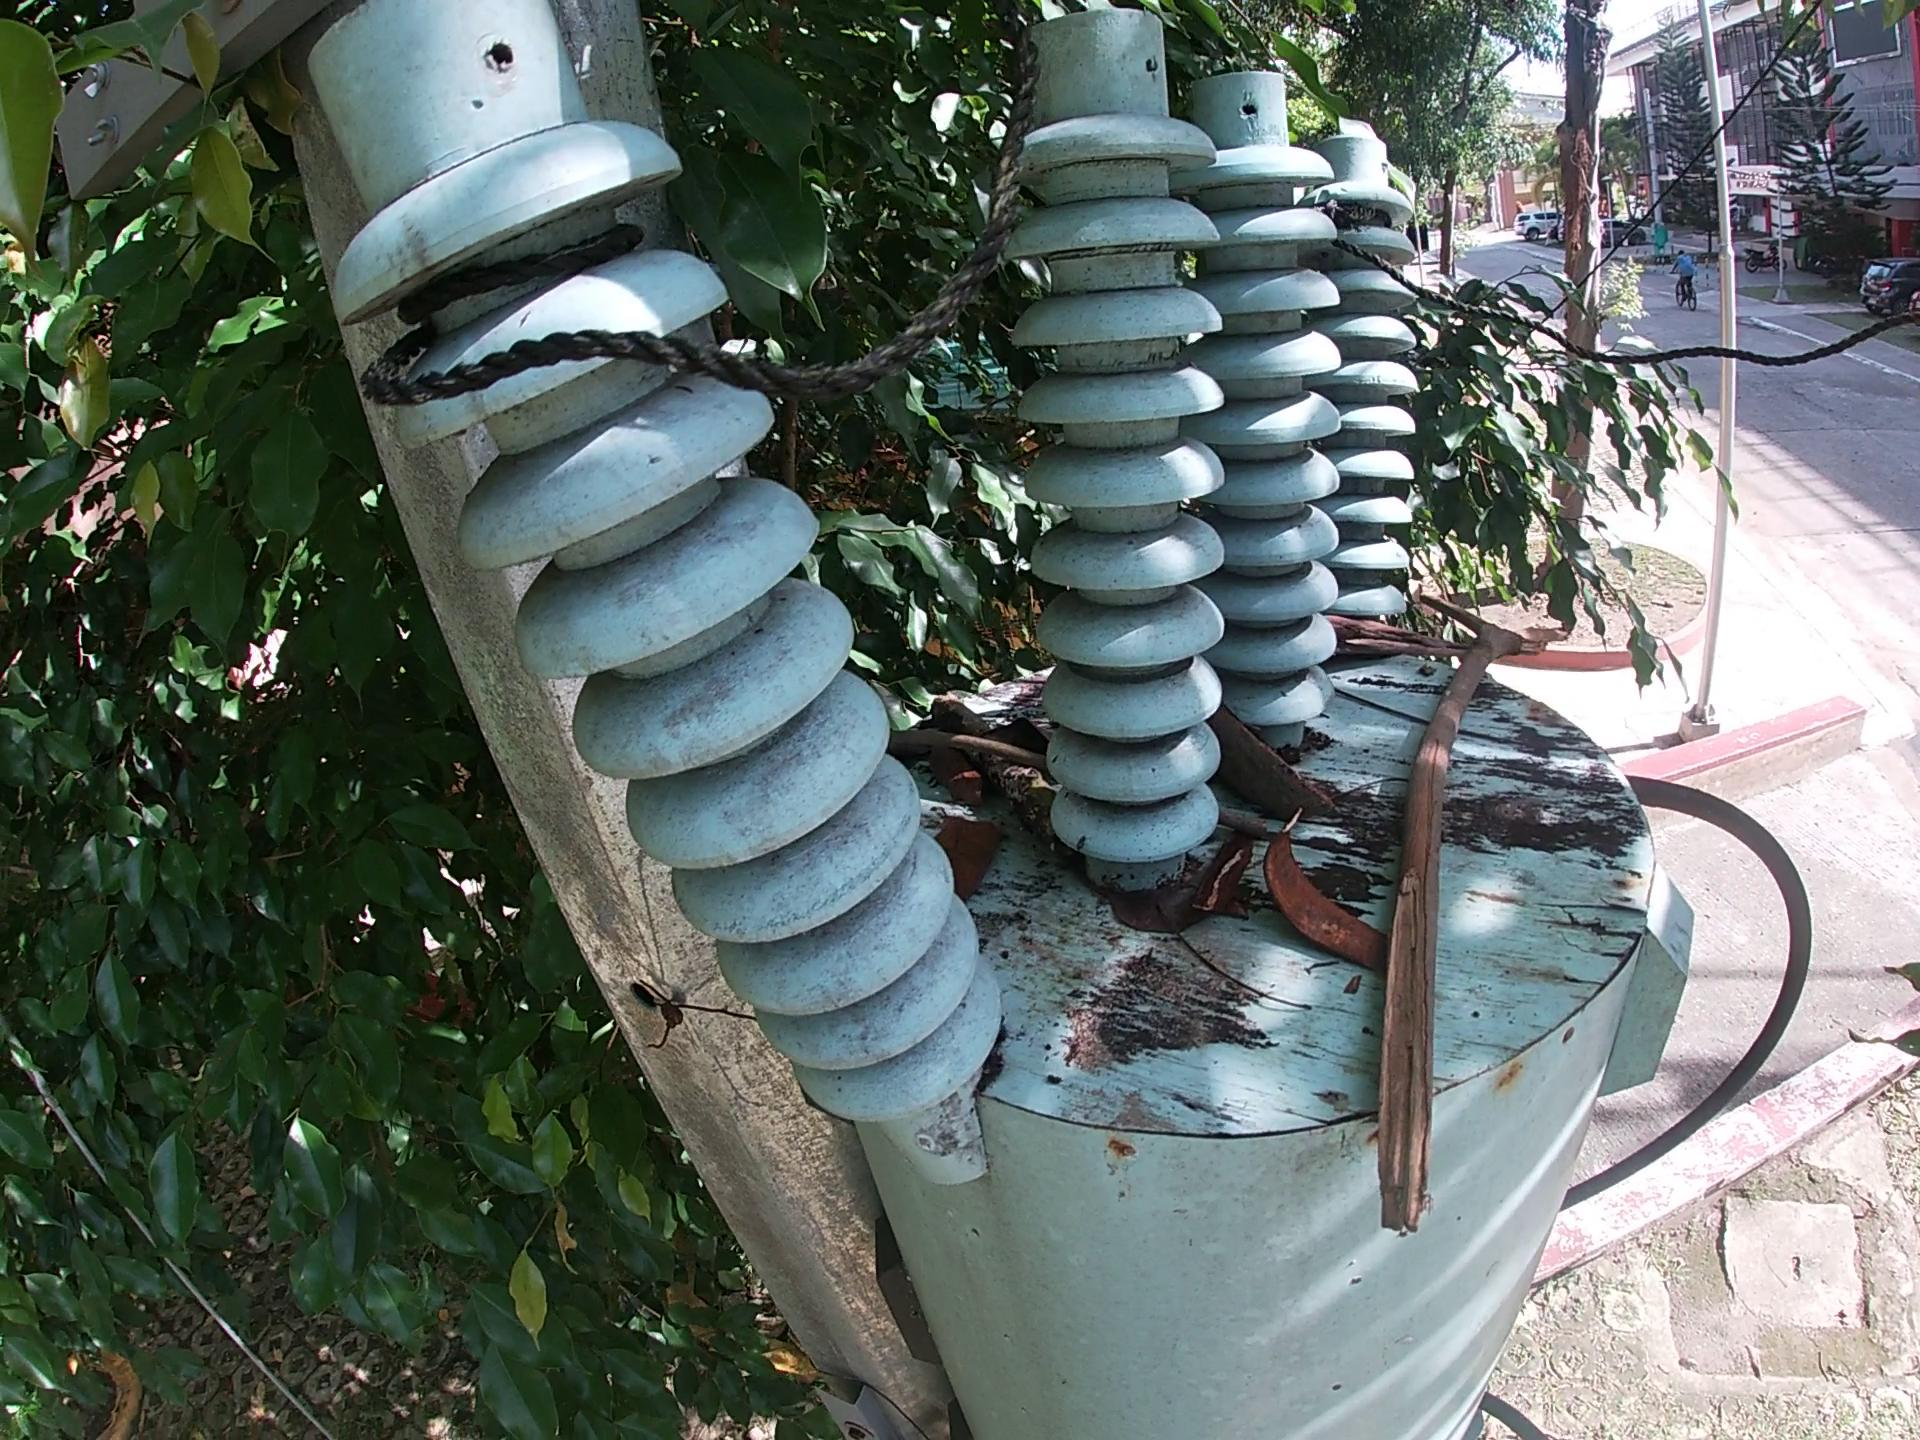leaf: (940, 809, 1002, 900), (1084, 895, 1209, 933), (928, 756, 981, 814), (999, 715, 1052, 761)
mahogany fruit: (1262, 811, 1380, 970), (1225, 728, 1327, 824)
tree branch: (1352, 570, 1593, 1255), (930, 691, 1058, 850), (1326, 690, 1533, 759), (1173, 942, 1327, 1009), (1320, 616, 1462, 666), (897, 737, 1058, 771), (1202, 838, 1253, 914), (1226, 815, 1274, 846)
